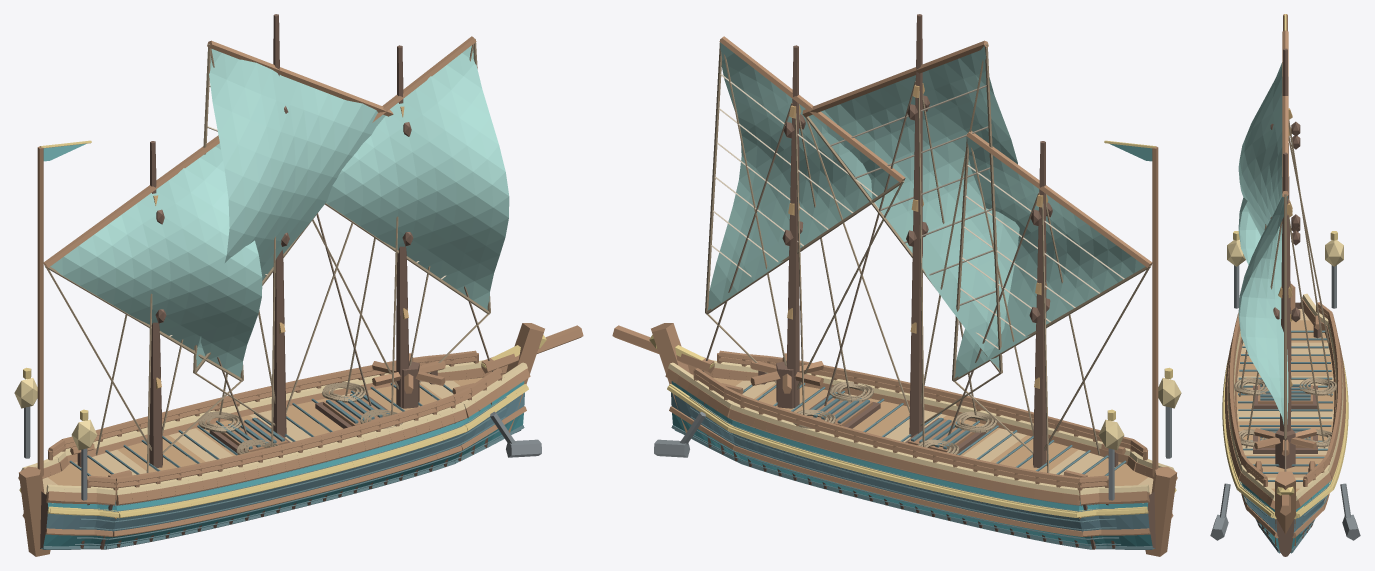
File: lemuria_scout-v5-mobile.glb
The picture shows the model from 3 angles, left to right: view 1: azimuth 30°, elevation 25°; view 2: azimuth 150°, elevation 25°; view 3: azimuth 270°, elevation 25°; orthographic projection. The views are drawn at different scales.
Visible parts, largest first — view 1: lemuria_scout_sails_mint, lemuria_scout_hull_hull2, lemuria_scout_railings_hull2, lemuria_scout_hull_ghostdark, lemuria_scout_masts_darkwood, lemuria_scout_hull_teal, lemuria_scout_hull_pale, lemuria_scout_hull_blue, lemuria_scout_rigging_rope, lemuria_scout_hull_wood, lemuria_scout_rigging_hull2, lemuria_scout_hull_gold (+11 smaller); view 2: lemuria_scout_sails_mint, lemuria_scout_hull_hull2, lemuria_scout_masts_darkwood, lemuria_scout_rigging_rope, lemuria_scout_railings_hull2, lemuria_scout_hull_ghostdark, lemuria_scout_hull_teal, lemuria_scout_hull_pale, lemuria_scout_hull_blue, lemuria_scout_rigging_hull2, lemuria_scout_hull_wood, lemuria_scout_masts_rope (+13 smaller); view 3: lemuria_scout_sails_mint, lemuria_scout_hull_hull2, lemuria_scout_hull_wood, lemuria_scout_railings_hull2, lemuria_scout_hull_ghostdark, lemuria_scout_masts_darkwood, lemuria_scout_masts_rope, lemuria_scout_hull_decklight, lemuria_scout_fittings_iron, lemuria_scout_hull_gold, lemuria_scout_hull_pale, lemuria_scout_fittings_hull2 (+11 smaller).
Boxes of the visible parts, <box> form: lemuria_scout_sails_mint: <box>50,45,509,377</box>; lemuria_scout_hull_hull2: <box>18,323,583,556</box>; lemuria_scout_railings_hull2: <box>48,350,502,500</box>; lemuria_scout_hull_ghostdark: <box>42,383,524,549</box>; lemuria_scout_masts_darkwood: <box>149,14,413,467</box>; lemuria_scout_hull_teal: <box>43,381,524,546</box>; lemuria_scout_hull_pale: <box>21,360,527,495</box>; lemuria_scout_hull_blue: <box>41,392,524,548</box>; lemuria_scout_rigging_rope: <box>45,39,490,453</box>; lemuria_scout_hull_wood: <box>47,374,504,501</box>; lemuria_scout_rigging_hull2: <box>43,36,476,268</box>; lemuria_scout_hull_gold: <box>19,384,528,518</box>; lemuria_scout_sails_mint: <box>707,42,1145,377</box>; lemuria_scout_hull_hull2: <box>612,323,1177,556</box>; lemuria_scout_masts_darkwood: <box>782,14,1052,467</box>; lemuria_scout_rigging_rope: <box>705,39,1150,453</box>; lemuria_scout_railings_hull2: <box>693,350,1147,500</box>; lemuria_scout_hull_ghostdark: <box>671,383,1153,549</box>; lemuria_scout_hull_teal: <box>671,381,1152,546</box>; lemuria_scout_hull_pale: <box>668,360,1174,495</box>; lemuria_scout_hull_blue: <box>671,392,1154,548</box>; lemuria_scout_rigging_hull2: <box>719,36,1152,268</box>; lemuria_scout_hull_wood: <box>691,374,1148,501</box>; lemuria_scout_masts_rope: <box>795,91,1100,472</box>; lemuria_scout_sails_mint: <box>1238,62,1288,424</box>; lemuria_scout_hull_hull2: <box>1224,283,1346,545</box>; lemuria_scout_hull_wood: <box>1236,320,1334,491</box>; lemuria_scout_railings_hull2: <box>1228,302,1342,486</box>; lemuria_scout_hull_ghostdark: <box>1238,330,1332,553</box>; lemuria_scout_masts_darkwood: <box>1270,48,1300,431</box>; lemuria_scout_masts_rope: <box>1239,120,1331,448</box>; lemuria_scout_hull_decklight: <box>1237,309,1333,488</box>; lemuria_scout_fittings_iron: <box>1210,265,1360,540</box>; lemuria_scout_hull_gold: <box>1222,358,1348,519</box>; lemuria_scout_hull_pale: <box>1227,293,1343,500</box>; lemuria_scout_fittings_hull2: <box>1254,315,1320,471</box>.
Size of the model in its own units: 46.54 by 38.48 by 12.67.
